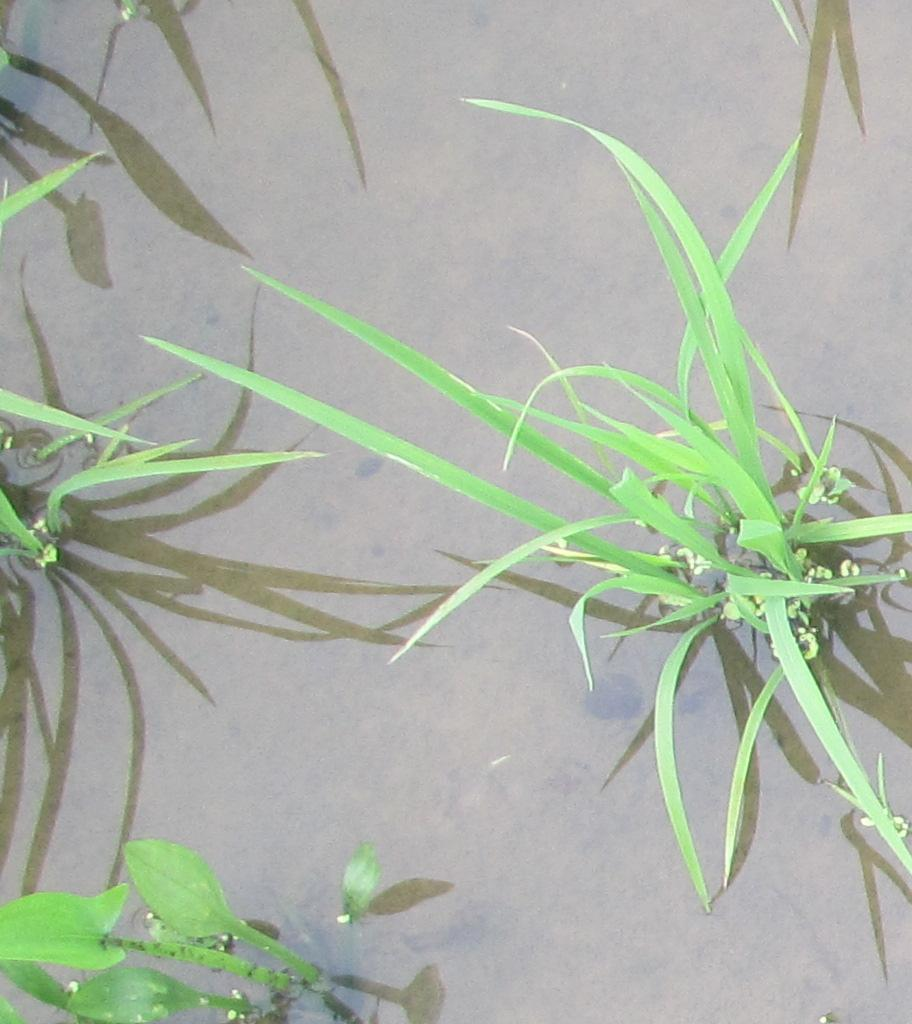Weed: (3, 855, 321, 999)
